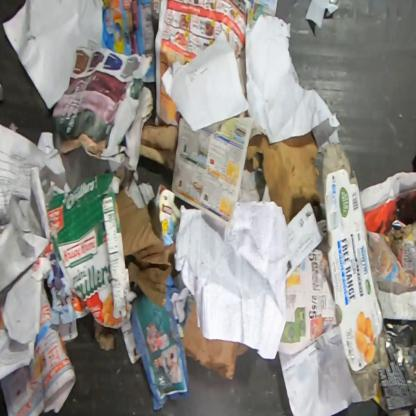cardboard: (322, 143, 383, 401), (45, 169, 138, 330), (116, 191, 176, 309), (182, 302, 249, 380), (139, 123, 178, 173)
